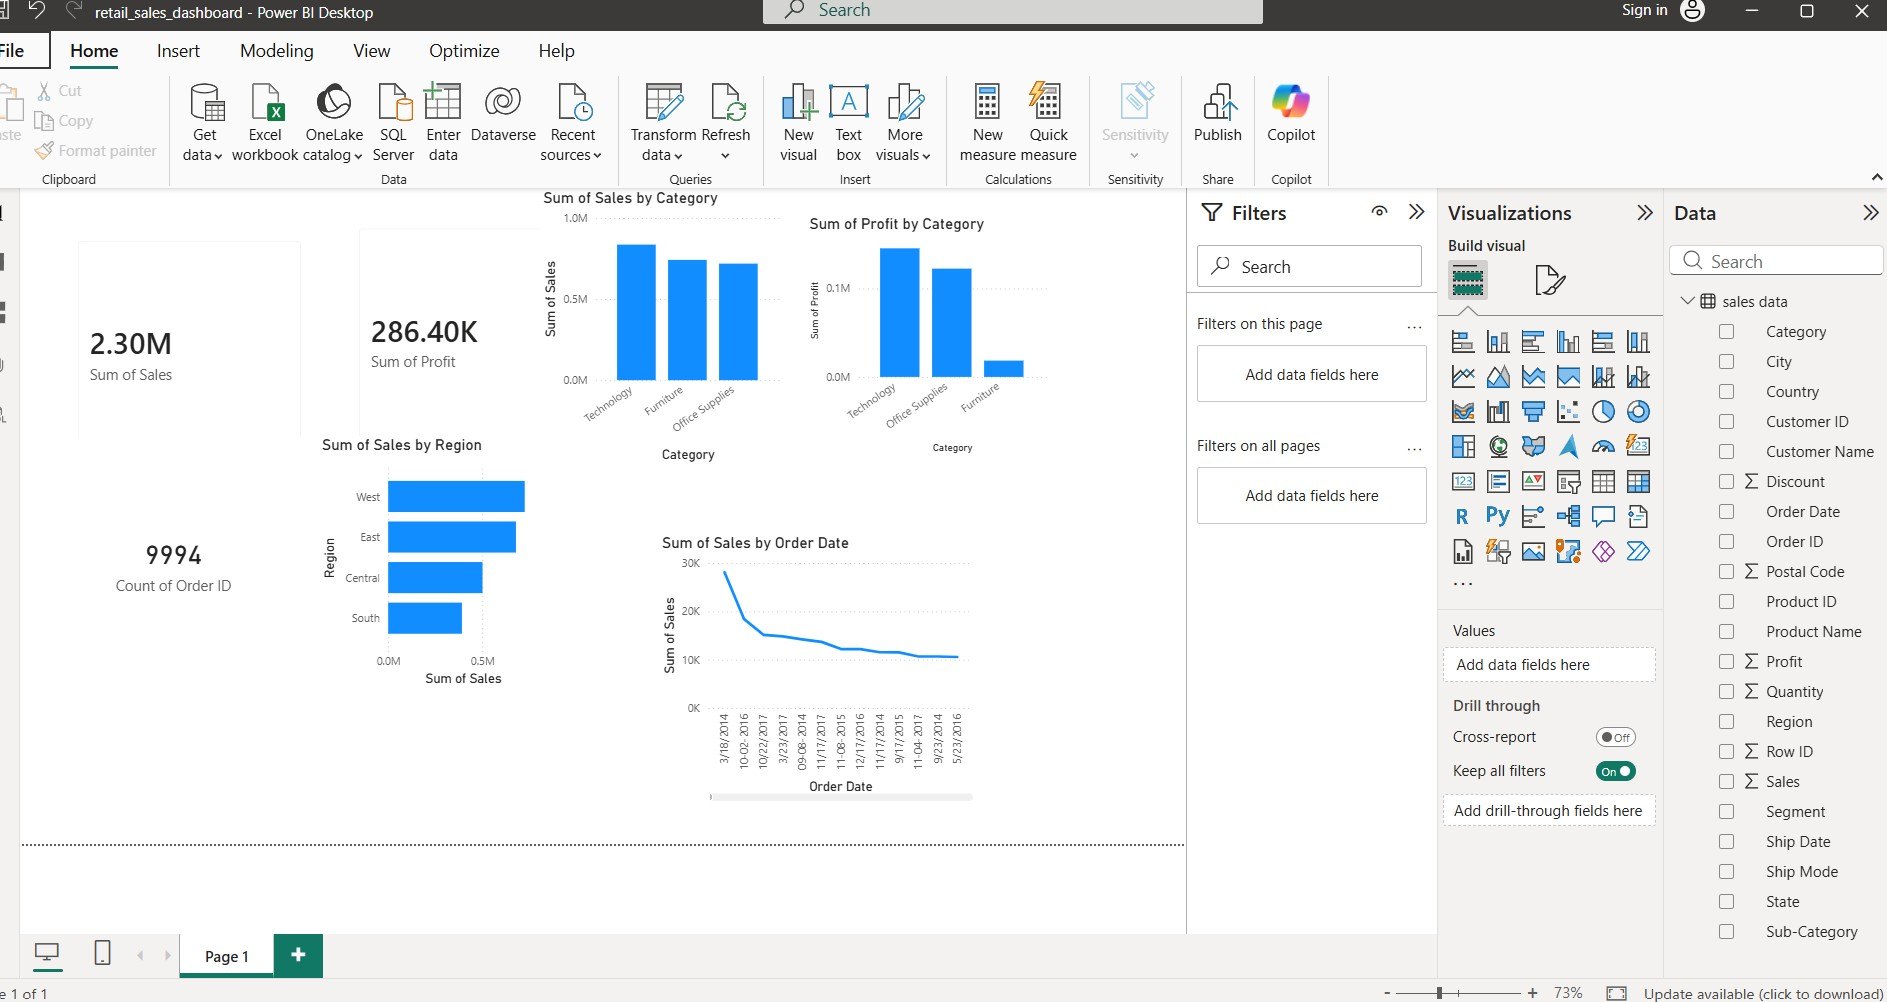

What the dashboard file says about the page in this screenshot:
{"tool":"powerbi","page":{"name":"Page 1","canvas":[1280,720],"ordinal":0},"visuals":[{"type":"cardVisual","fields":{"Data":["Sum(sales data.Sales)"]},"box":[46.7,41.2,279.9,279.9],"z":0},{"type":"cardVisual","fields":{"Data":["Sum(sales data.Profit)"]},"box":[355.4,27.4,300.5,278.6],"z":1000},{"type":"clusteredColumnChart","fields":{"Category":["sales data.Category"],"Y":["Sum(sales data.Sales)"]},"box":[569.5,0,270.3,306],"z":2000},{"type":"card","fields":{"Values":["CountNonNull(sales data.Order ID)"]},"box":[28.8,271.7,279.9,279.9],"z":2001},{"type":"clusteredBarChart","fields":{"Category":["sales data.Region"],"Y":["Sum(sales data.Sales)"]},"box":[326.6,271.7,262.1,279.9],"z":2002},{"type":"clusteredColumnChart","fields":{"Category":["sales data.Category"],"Y":["Sum(sales data.Profit)"]},"box":[861.8,28.8,270.3,267.6],"z":2003},{"type":"lineChart","fields":{"Category":["sales data.Order Date"],"Y":["Sum(sales data.Sales)"]},"box":[699.8,378.7,351.3,299.1],"z":2004}]}

Visuals, with their boxes on the page's 1280x720 design canvas (x1, y1, x2, y2). These are canvas units, not pixel positions in the 1887x1002 screenshot, which may show the page scaled, cropped or inside an application window:
cardVisual - Sum(sales data.Sales): select_region(47, 41, 327, 321)
cardVisual - Sum(sales data.Profit): select_region(355, 27, 656, 306)
clusteredColumnChart - sales data.Category x Sum(sales data.Sales): select_region(570, 0, 840, 306)
card - CountNonNull(sales data.Order ID): select_region(29, 272, 309, 552)
clusteredBarChart - sales data.Region x Sum(sales data.Sales): select_region(327, 272, 589, 552)
clusteredColumnChart - sales data.Category x Sum(sales data.Profit): select_region(862, 29, 1132, 296)
lineChart - sales data.Order Date x Sum(sales data.Sales): select_region(700, 379, 1051, 678)
